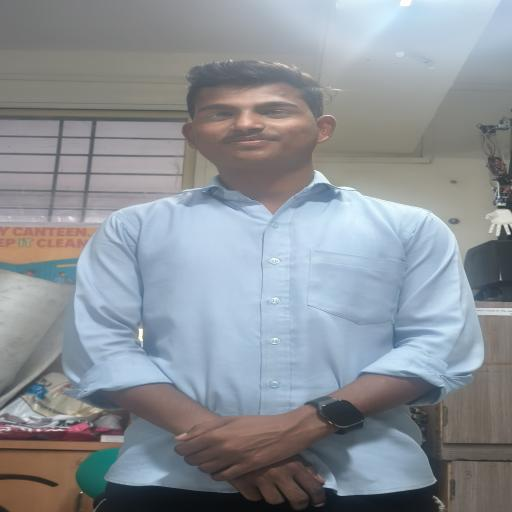survivor: (60, 59, 486, 512)
